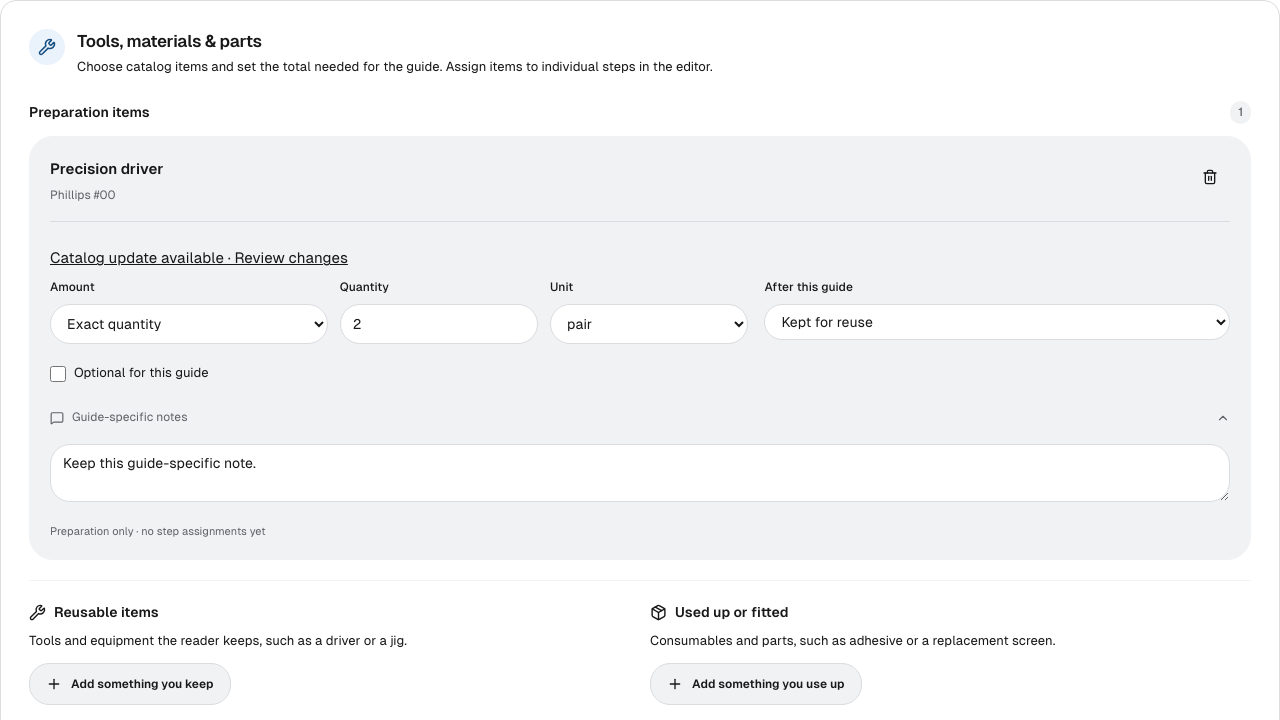
Test: catalog-backed preparation authoring › shows newer catalog details for review and preserves confirmed quantity, unit and notes on apply
This screenshot has width=1280, height=720.
Click the button "Catalog update available · Review changes".
click(199, 258)  # box top-left (50, 238), bottom-right (348, 278)
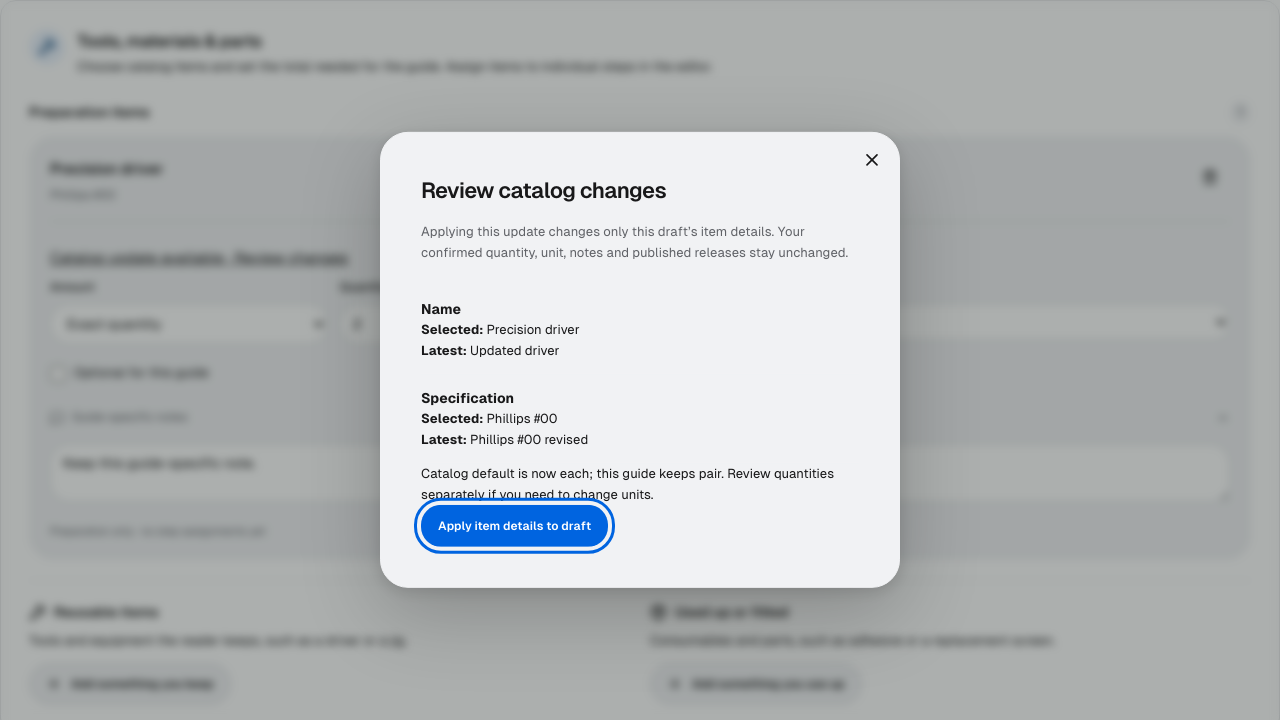
Check: the heading "Precision driver" is shown, box top-left (50, 157), bottom-right (164, 181)
Check: the dialog shows "Phillips #00 revised", box top-left (470, 432), bottom-right (588, 447)
Click the button "Apply item details to draft".
click(515, 526)  # box top-left (421, 505), bottom-right (608, 547)
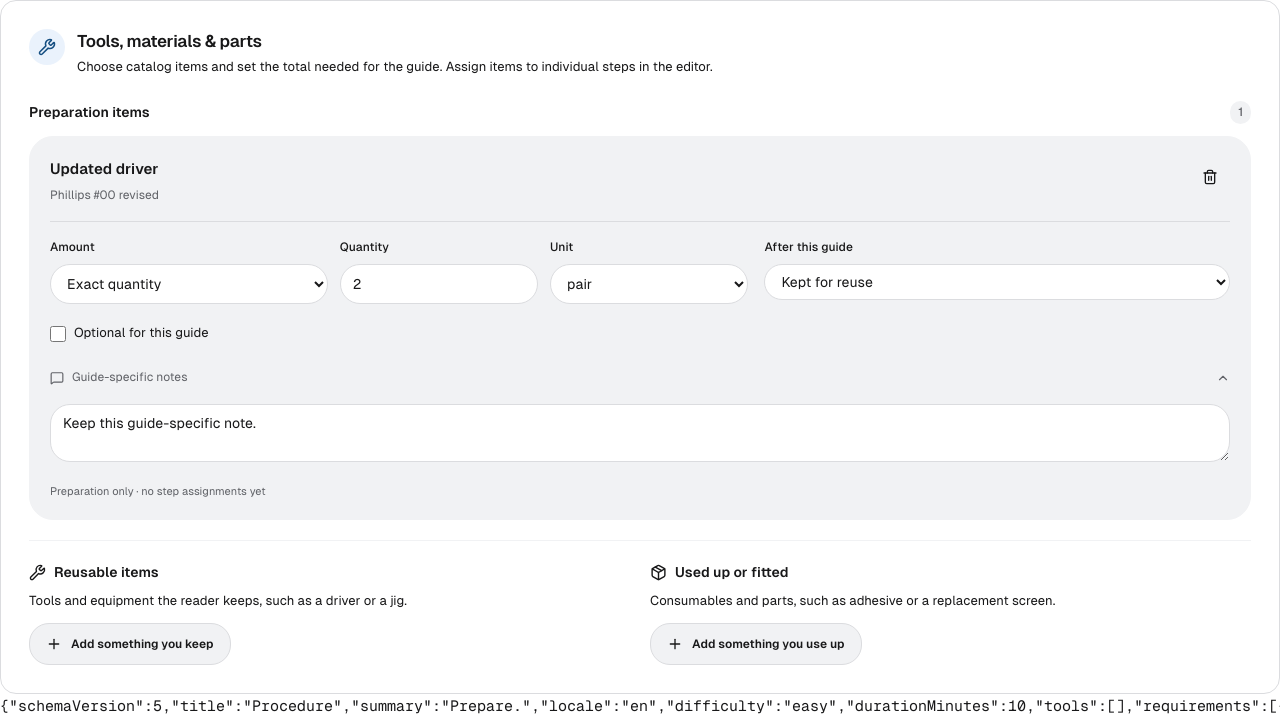
Check: the dialog is gone
